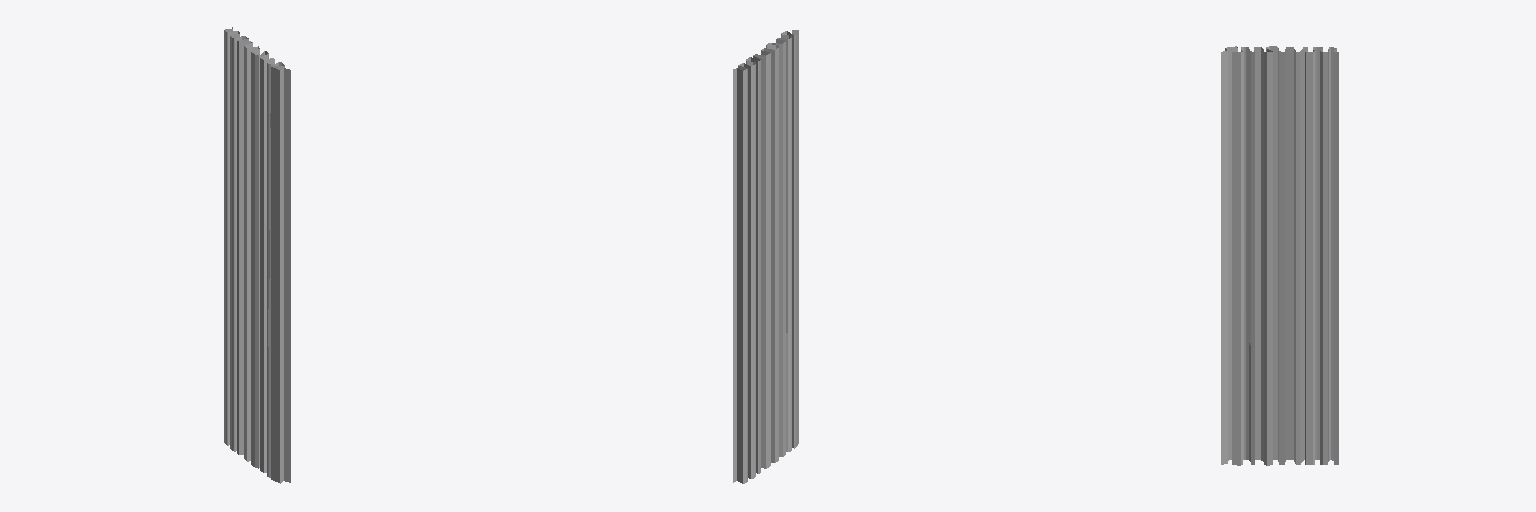
The model's file is curtain.obj.
3 views of the same model, side by side, from view 1: azimuth 30°, elevation 25°; view 2: azimuth 150°, elevation 25°; view 3: azimuth 270°, elevation 25° (orthographic).
Visible parts, largest first — view 1: G-__555717.002_G-__555717; view 2: G-__555717.002_G-__555717; view 3: G-__555717.002_G-__555717.
Part boxes in pixels (bbox=[...]): G-__555717.002_G-__555717: bbox=[224, 27, 290, 483]; G-__555717.002_G-__555717: bbox=[733, 30, 798, 483]; G-__555717.002_G-__555717: bbox=[1221, 46, 1338, 465].
Bounding box in the file's own units: 0.1 × 3.1 × 0.8.